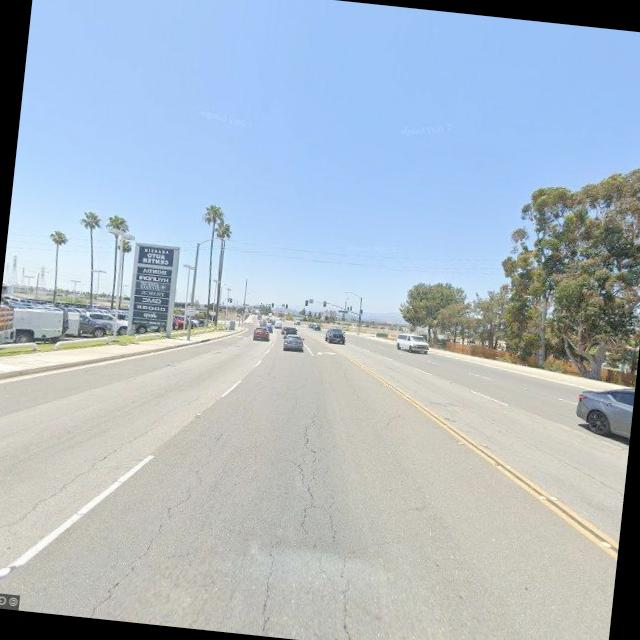crack: (250, 411, 385, 640)
pothole: (0, 405, 157, 569), (82, 468, 203, 626), (282, 401, 336, 548)
